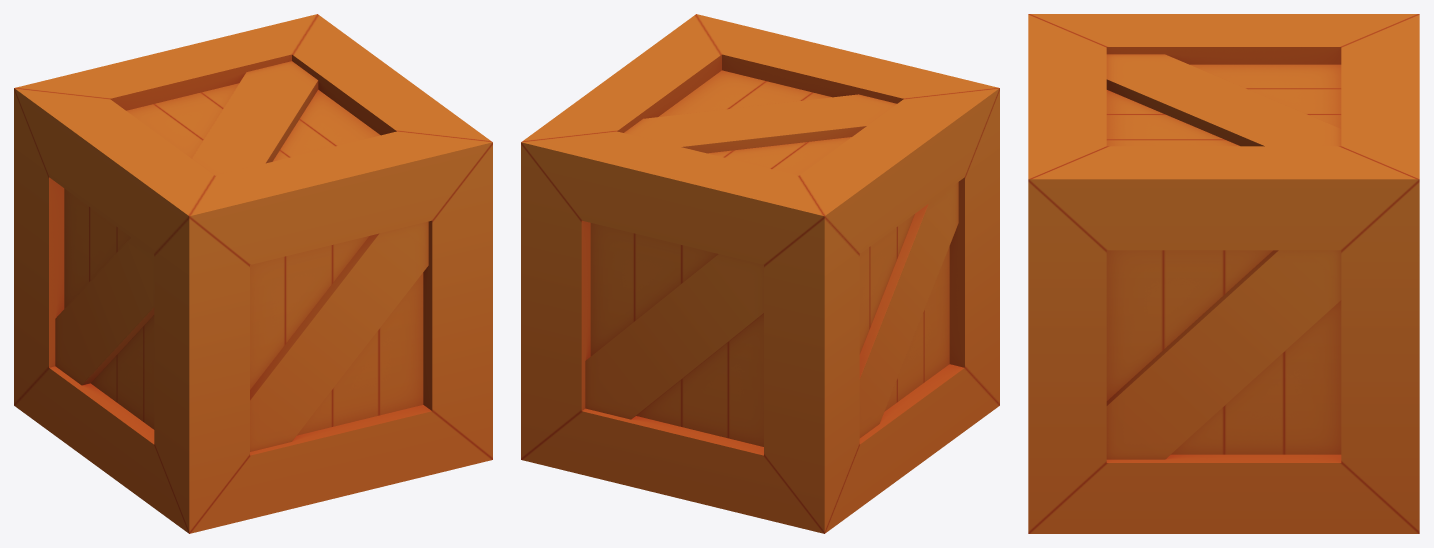
Rendered from Crate.FBX.
3 renders of one model, left to right at view 1: azimuth 30°, elevation 25°; view 2: azimuth 150°, elevation 25°; view 3: azimuth 270°, elevation 25°, orthographic. The views are drawn at different scales.
Parts seen in each view (by area): view 1: Crate; view 2: Crate; view 3: Crate.
Boxes of the visible parts, <box> form: Crate: <box>14,14,492,533</box>; Crate: <box>521,14,999,533</box>; Crate: <box>1028,14,1419,533</box>.
Bounding box in the file's own units: 100 × 100 × 100.
